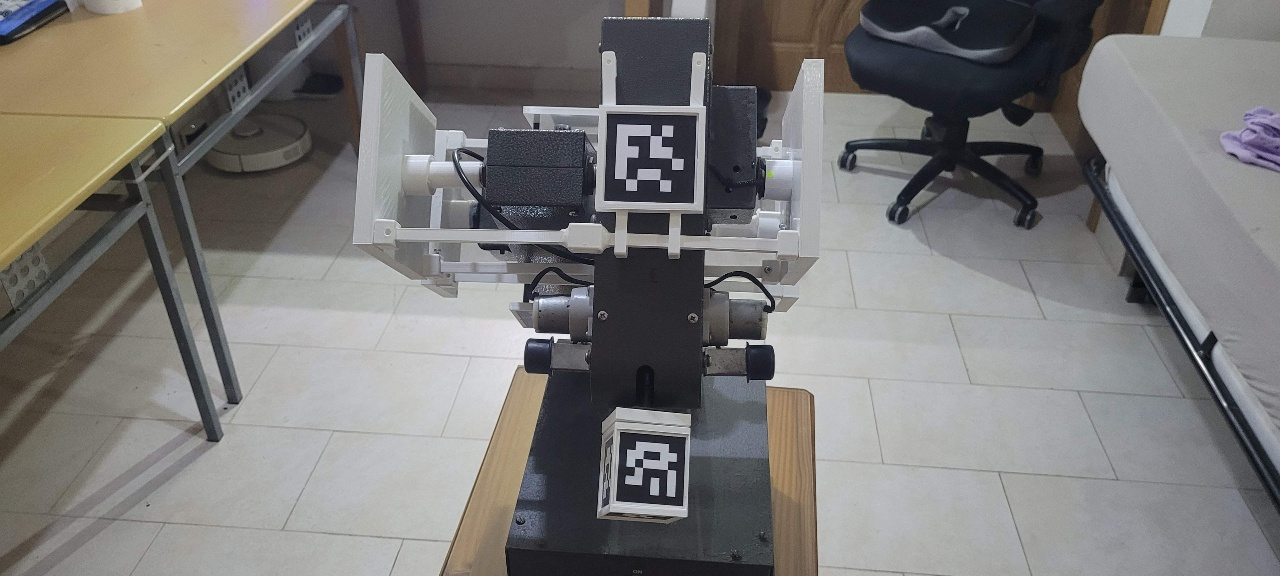Robot: (351, 15, 827, 527)
